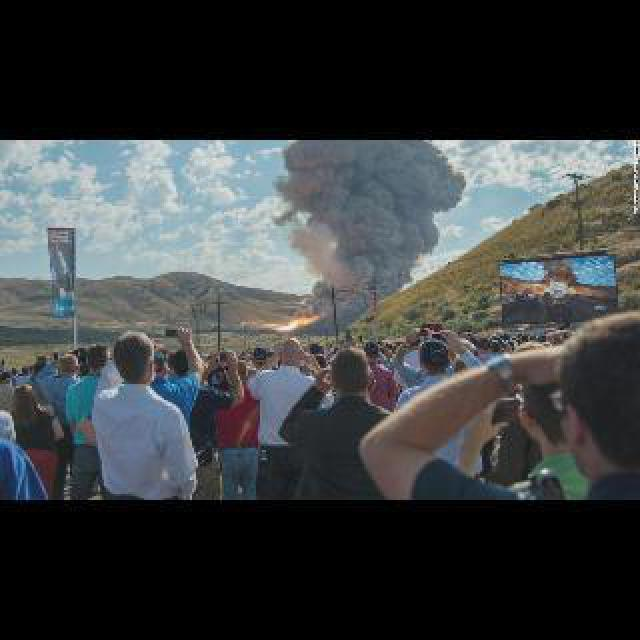fire: (281, 143, 468, 304)
smoke: (278, 314, 314, 328)
